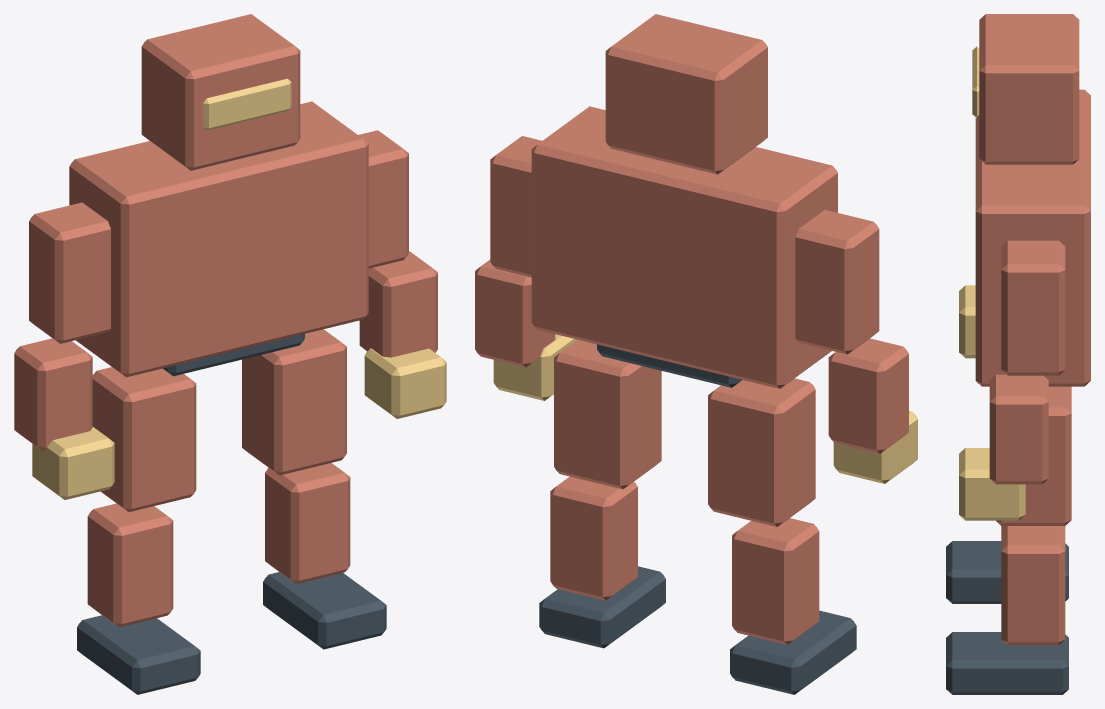
File: practice-brute.glb
3 renders of one model, left to right at view 1: azimuth 30°, elevation 25°; view 2: azimuth 150°, elevation 25°; view 3: azimuth 270°, elevation 25°, orthographic. The views are drawn at different scales.
Parts seen in each view (by area): view 1: Chest, Helmet, Thigh.001, Thigh, Upper_arm, Shin, Shin.001, Forearm, Boot, Forearm.001, Boot.001, Upper_arm.001 (+4 smaller); view 2: Chest, Helmet, Thigh, Thigh.001, Upper_arm, Shin, Shin.001, Forearm, Boot, Boot.001, Forearm.001, Upper_arm.001 (+3 smaller); view 3: Chest, Helmet, Upper_arm.001, Shin.001, Boot.001, Forearm.001, Thigh.001, Boot, Fist.001, Fist, Visor.
Part boxes in pixels (x1,y1,x2,y2): Chest: [69, 101, 368, 377]; Helmet: [141, 14, 300, 170]; Thigh.001: [242, 329, 346, 475]; Thigh: [92, 367, 196, 511]; Upper_arm: [29, 202, 110, 343]; Shin: [87, 503, 173, 627]; Shin.001: [265, 463, 350, 584]; Forearm: [14, 338, 92, 450]; Boot: [77, 615, 200, 694]; Forearm.001: [359, 251, 437, 357]; Boot.001: [263, 572, 386, 649]; Upper_arm.001: [358, 130, 408, 268]; Chest: [531, 106, 837, 388]; Helmet: [605, 14, 767, 174]; Thigh: [708, 378, 815, 526]; Thigh.001: [554, 340, 661, 489]; Upper_arm: [795, 210, 879, 354]; Shin: [732, 518, 819, 644]; Shin.001: [550, 476, 637, 600]; Forearm: [828, 338, 908, 453]; Boot: [730, 610, 856, 694]; Boot.001: [539, 566, 665, 648]; Forearm.001: [475, 259, 555, 367]; Upper_arm.001: [490, 136, 542, 277]; Chest: [975, 89, 1090, 386]; Helmet: [979, 14, 1079, 164]; Upper_arm.001: [1001, 240, 1065, 375]; Shin.001: [1001, 526, 1065, 645]; Boot.001: [946, 632, 1068, 694]; Forearm.001: [989, 374, 1048, 484]; Thigh.001: [996, 386, 1071, 525]; Boot: [946, 541, 1068, 603]; Fist.001: [959, 448, 1025, 520]; Fist: [959, 285, 975, 358]; Visor: [972, 46, 979, 118].
Bounding box in the file's own units: 1.81 × 2.56 × 0.565.
